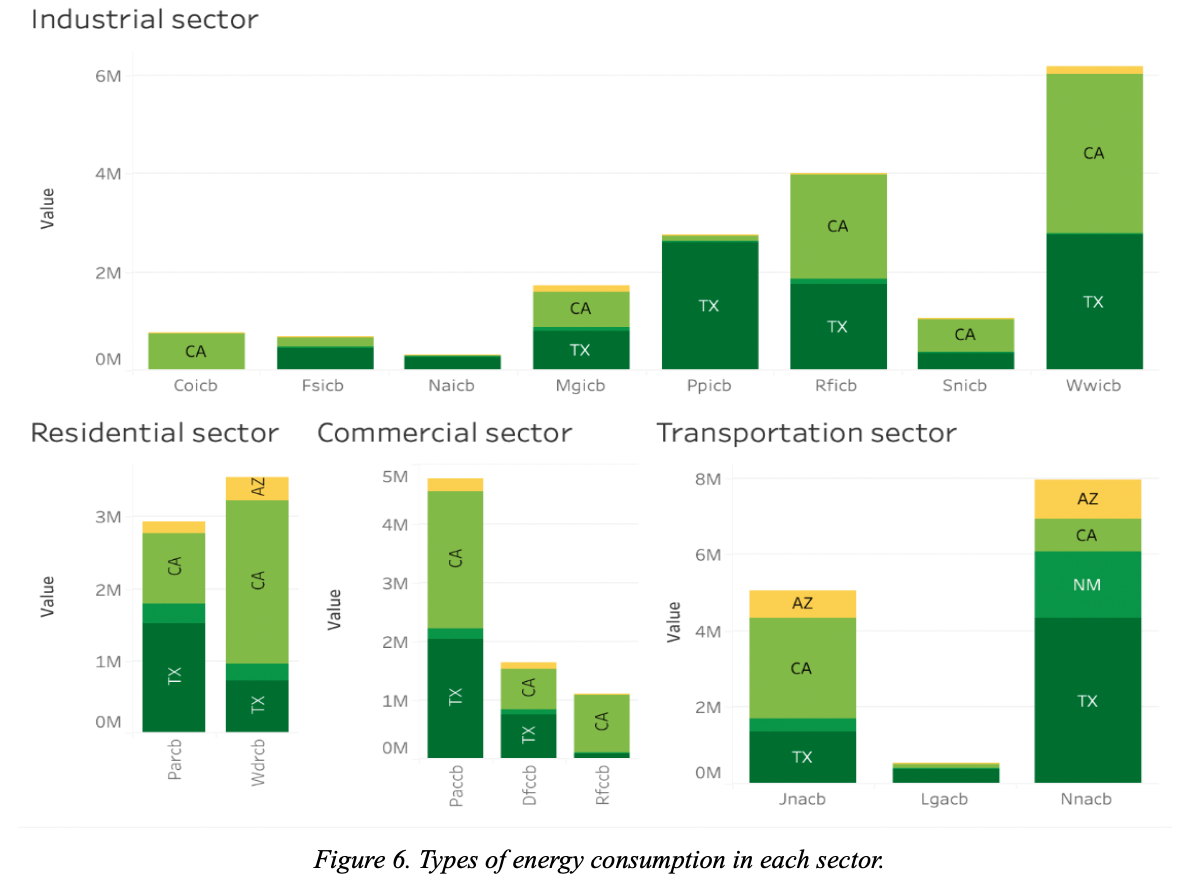

The dashboard page shown, as its layout file describes it:
{"tool":"tableau","page":{"name":"Sector-energy usage","canvas":[800,650],"ordinal":3},"visuals":[{"type":"worksheet","title":"Industrial sector","mark":"Automatic","box":[8,8,784,317]},{"type":"worksheet","title":"Residential sector","mark":"Automatic","box":[8,325,196,317]},{"type":"worksheet","title":"Commercial sector","mark":"Automatic","box":[204,325,231.8,317]},{"type":"worksheet","title":"Transportation sector","mark":"Automatic","box":[435.8,325,356.2,317]}]}

Visuals, with their boxes on the page's 800x650 design canvas (x1, y1, x2, y2). These are canvas units, not pixel positions in the 1180x882 screenshot, which may show the page scaled, cropped or inside an application window:
"Industrial sector" worksheet: box(8, 8, 792, 325)
"Residential sector" worksheet: box(8, 325, 204, 642)
"Commercial sector" worksheet: box(204, 325, 436, 642)
"Transportation sector" worksheet: box(436, 325, 792, 642)
